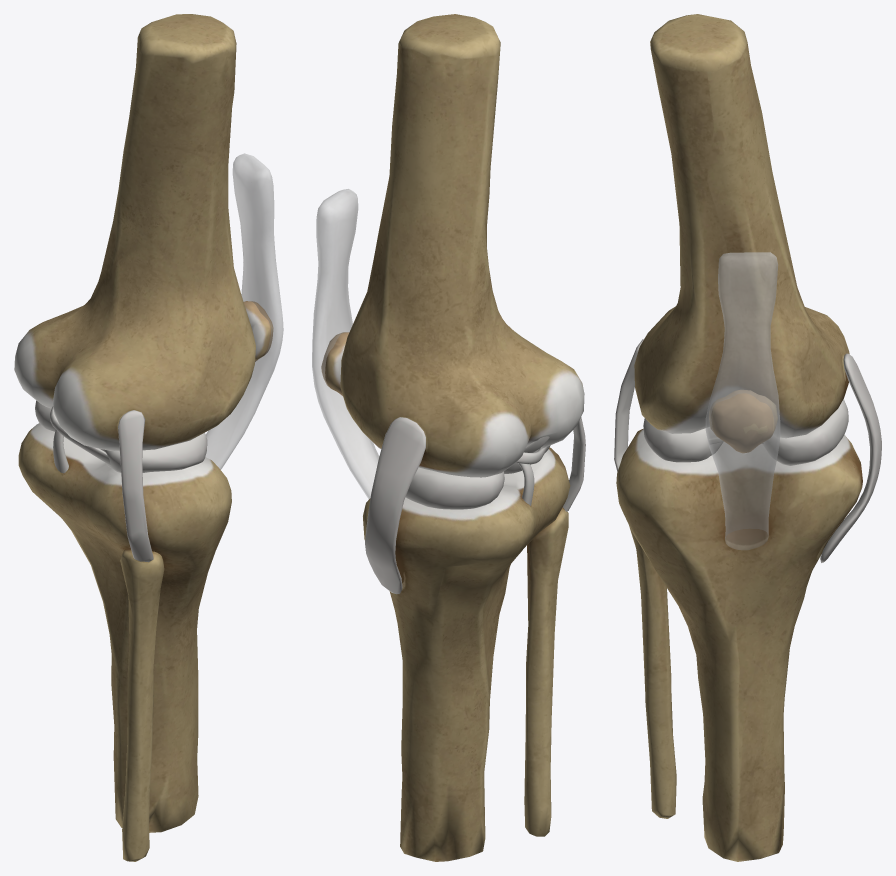
File: knee.glb
3 renders of one model, left to right at view 1: azimuth 30°, elevation 25°; view 2: azimuth 150°, elevation 25°; view 3: azimuth 270°, elevation 25°, orthographic. The views are drawn at different scales.
Visible parts, largest first — view 1: Bone_Low_bone_0, Transparenty_Low_Opacyty_0, Mash_Low_mash_0; view 2: Bone_Low_bone_0, Mash_Low_mash_0, Transparenty_Low_Opacyty_0; view 3: Bone_Low_bone_0, Transparenty_Low_Opacyty_0, Mash_Low_mash_0.
Boxes of the visible parts, x1,y1,x2,y2 form: Bone_Low_bone_0: (14, 14, 255, 861); Transparenty_Low_Opacyty_0: (205, 153, 283, 469); Mash_Low_mash_0: (35, 301, 273, 562); Bone_Low_bone_0: (340, 14, 584, 861); Mash_Low_mash_0: (321, 332, 585, 594); Transparenty_Low_Opacyty_0: (312, 189, 379, 498); Bone_Low_bone_0: (616, 14, 862, 861); Transparenty_Low_Opacyty_0: (705, 252, 780, 549); Mash_Low_mash_0: (614, 339, 881, 562).
Size of the model in its own units: 0.0457 by 0.1498 by 0.0443.
3 materials, 3 textured.
